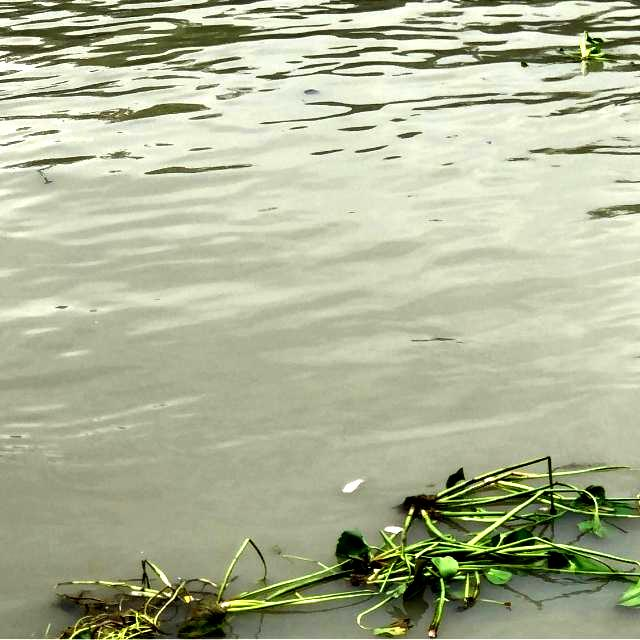water-hyacinth: (35, 466, 640, 640)
